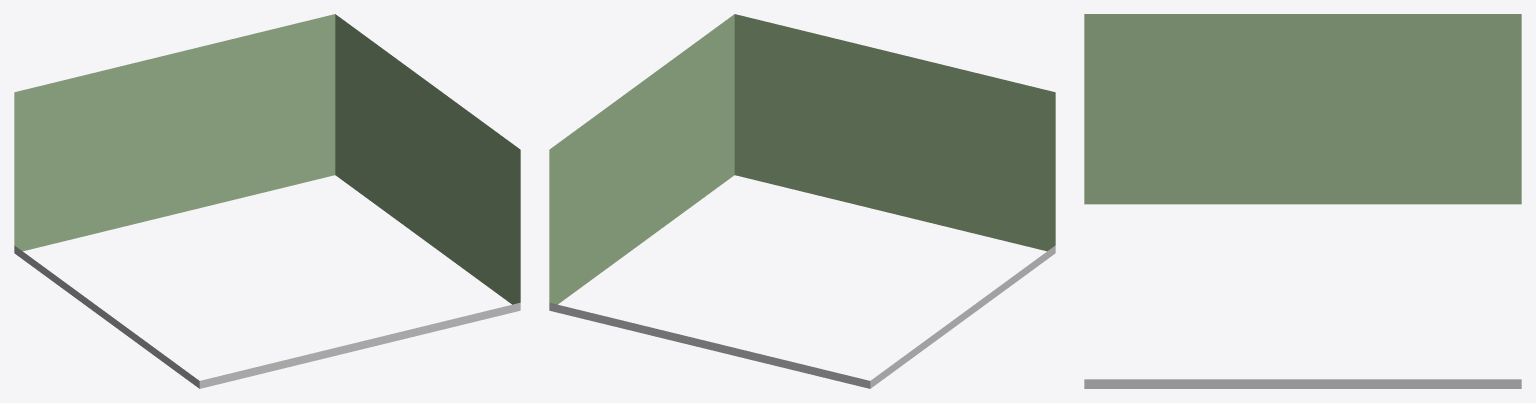
The model's file is bestgreenroom.gltf.
3 renders of one model, left to right at view 1: azimuth 30°, elevation 25°; view 2: azimuth 150°, elevation 25°; view 3: azimuth 270°, elevation 25°, orthographic. The views are drawn at different scales.
Parts seen in each view (by area): view 1: Room, Baseboard; view 2: Room, Baseboard; view 3: Room, Baseboard.
Part boxes in pixels (bbox=[...]): Room: bbox=[14, 14, 520, 304]; Baseboard: bbox=[14, 245, 520, 388]; Room: bbox=[549, 14, 1055, 304]; Baseboard: bbox=[549, 245, 1055, 388]; Room: bbox=[1084, 14, 1521, 204]; Baseboard: bbox=[1084, 379, 1521, 388].
Bounding box in the file's own units: 5 × 2.4 × 5.
